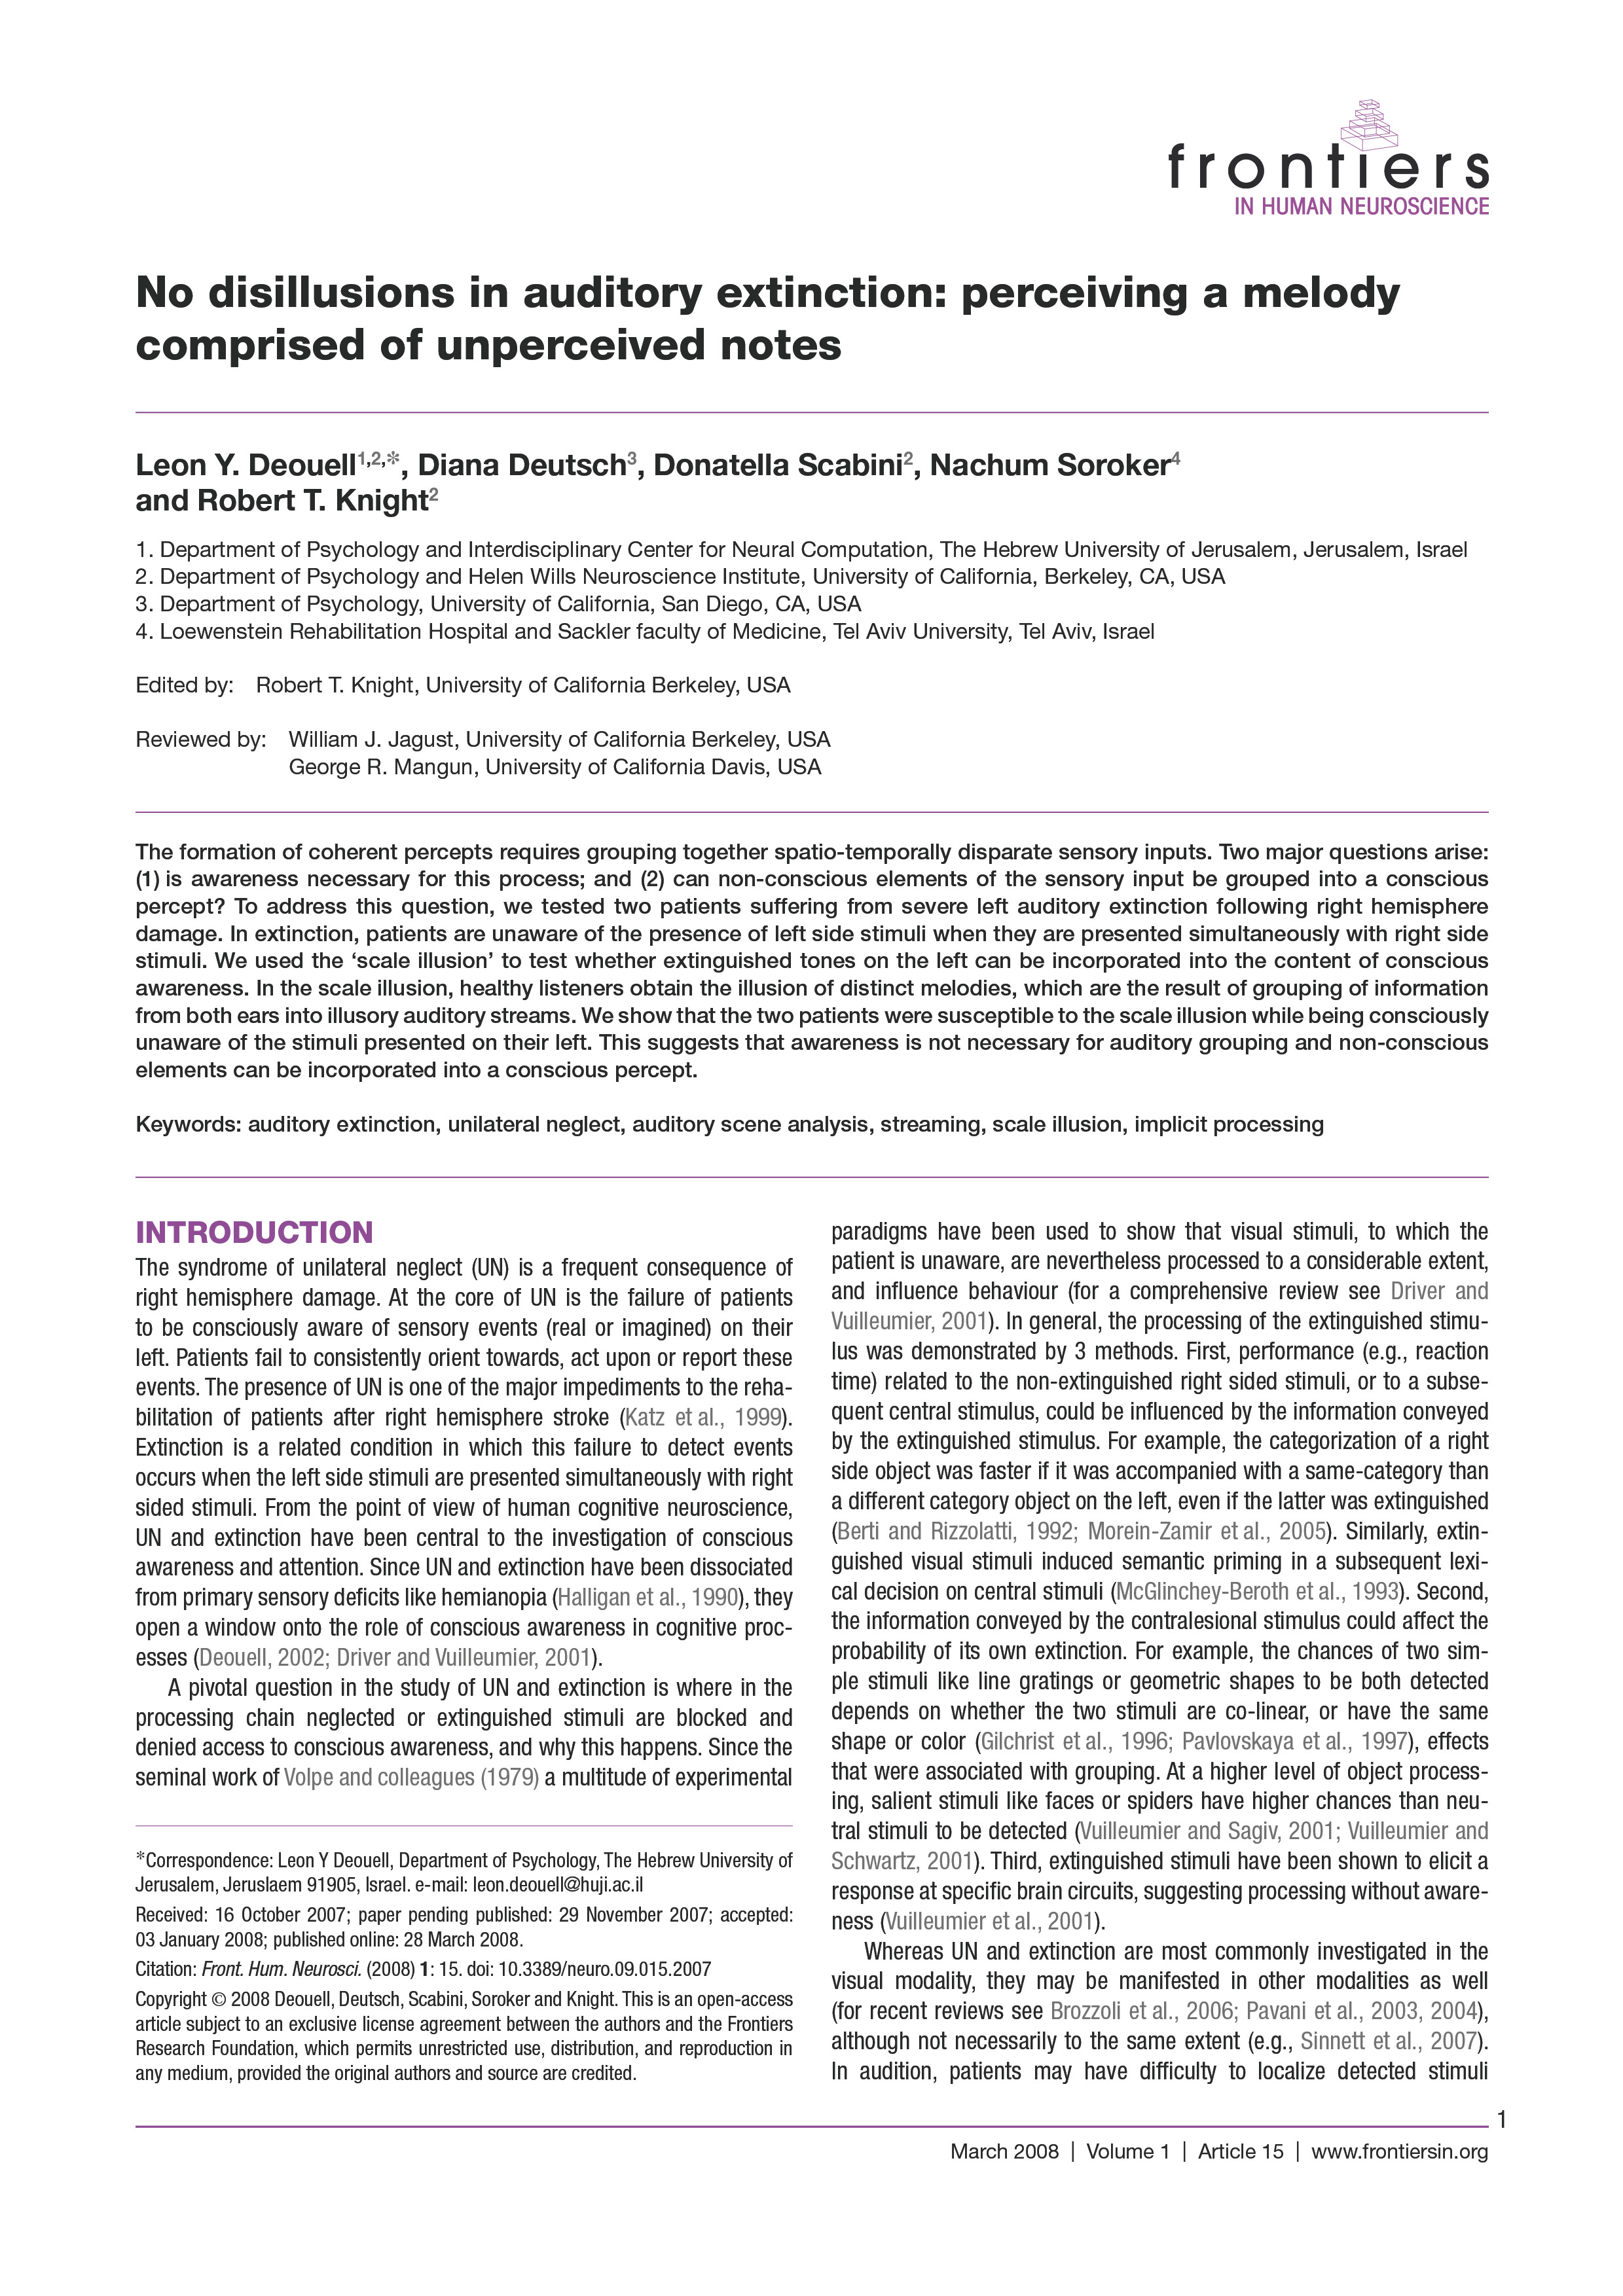figure: (1166, 95, 1512, 228)
list: (109, 528, 1481, 665)
section: (133, 242, 1410, 370), (133, 437, 1187, 532), (126, 1194, 388, 1257)
text: (826, 1204, 1509, 1940), (123, 834, 1512, 1085), (137, 1260, 787, 1680), (137, 1838, 803, 2089), (819, 1940, 1498, 2103), (126, 1099, 1344, 1166), (116, 1694, 803, 1803), (130, 725, 840, 799), (130, 662, 819, 704)
